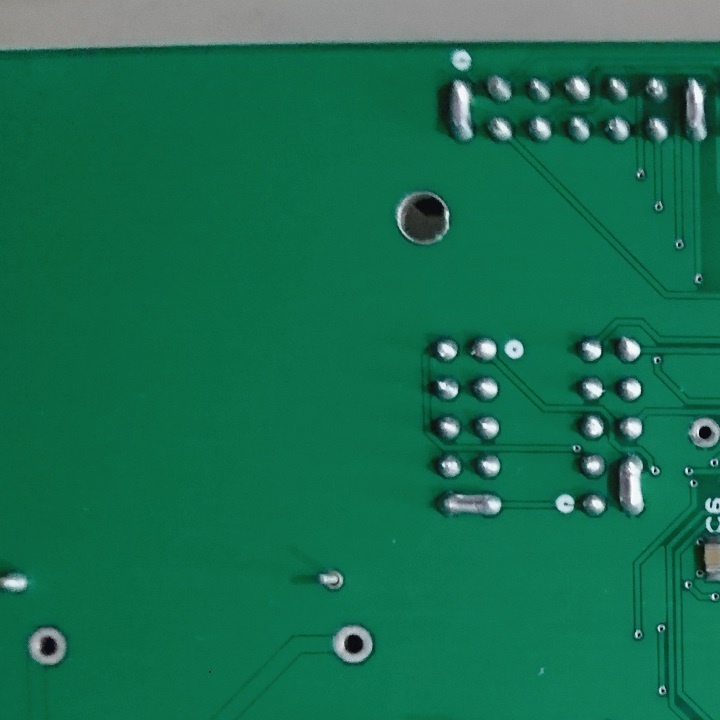F: (327, 620, 378, 667), (23, 622, 70, 671), (684, 412, 720, 455), (313, 565, 347, 595)
P: (433, 486, 507, 524), (611, 448, 647, 521), (444, 73, 475, 145), (679, 73, 709, 145)
